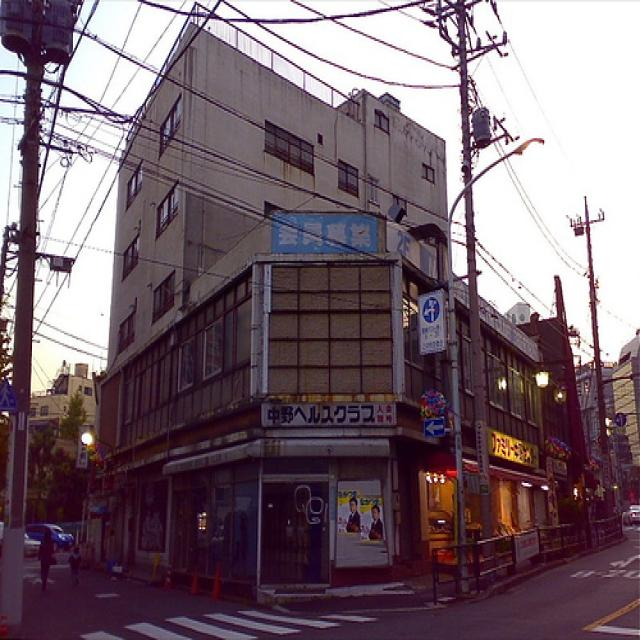Vehicle: (26, 523, 74, 546), (622, 504, 640, 528), (24, 533, 40, 557)
